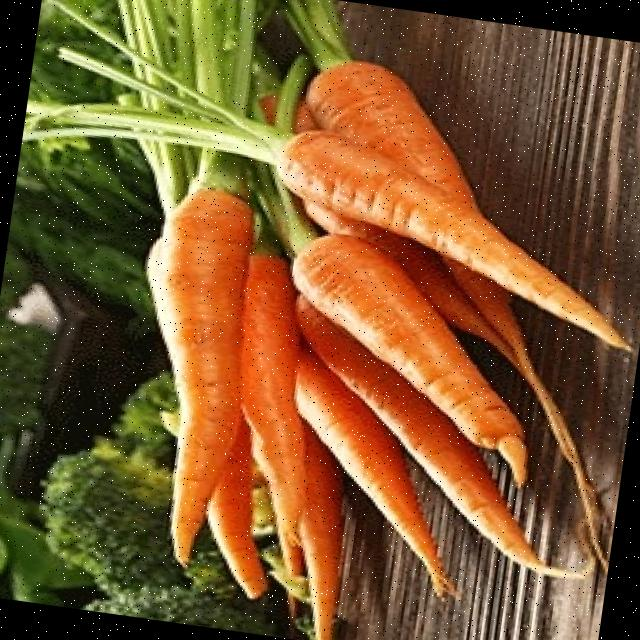carrot: (297, 295, 583, 576), (277, 132, 631, 346), (294, 237, 525, 482), (147, 188, 252, 563), (299, 347, 456, 592), (306, 60, 475, 204), (241, 253, 306, 571), (206, 420, 267, 598)
